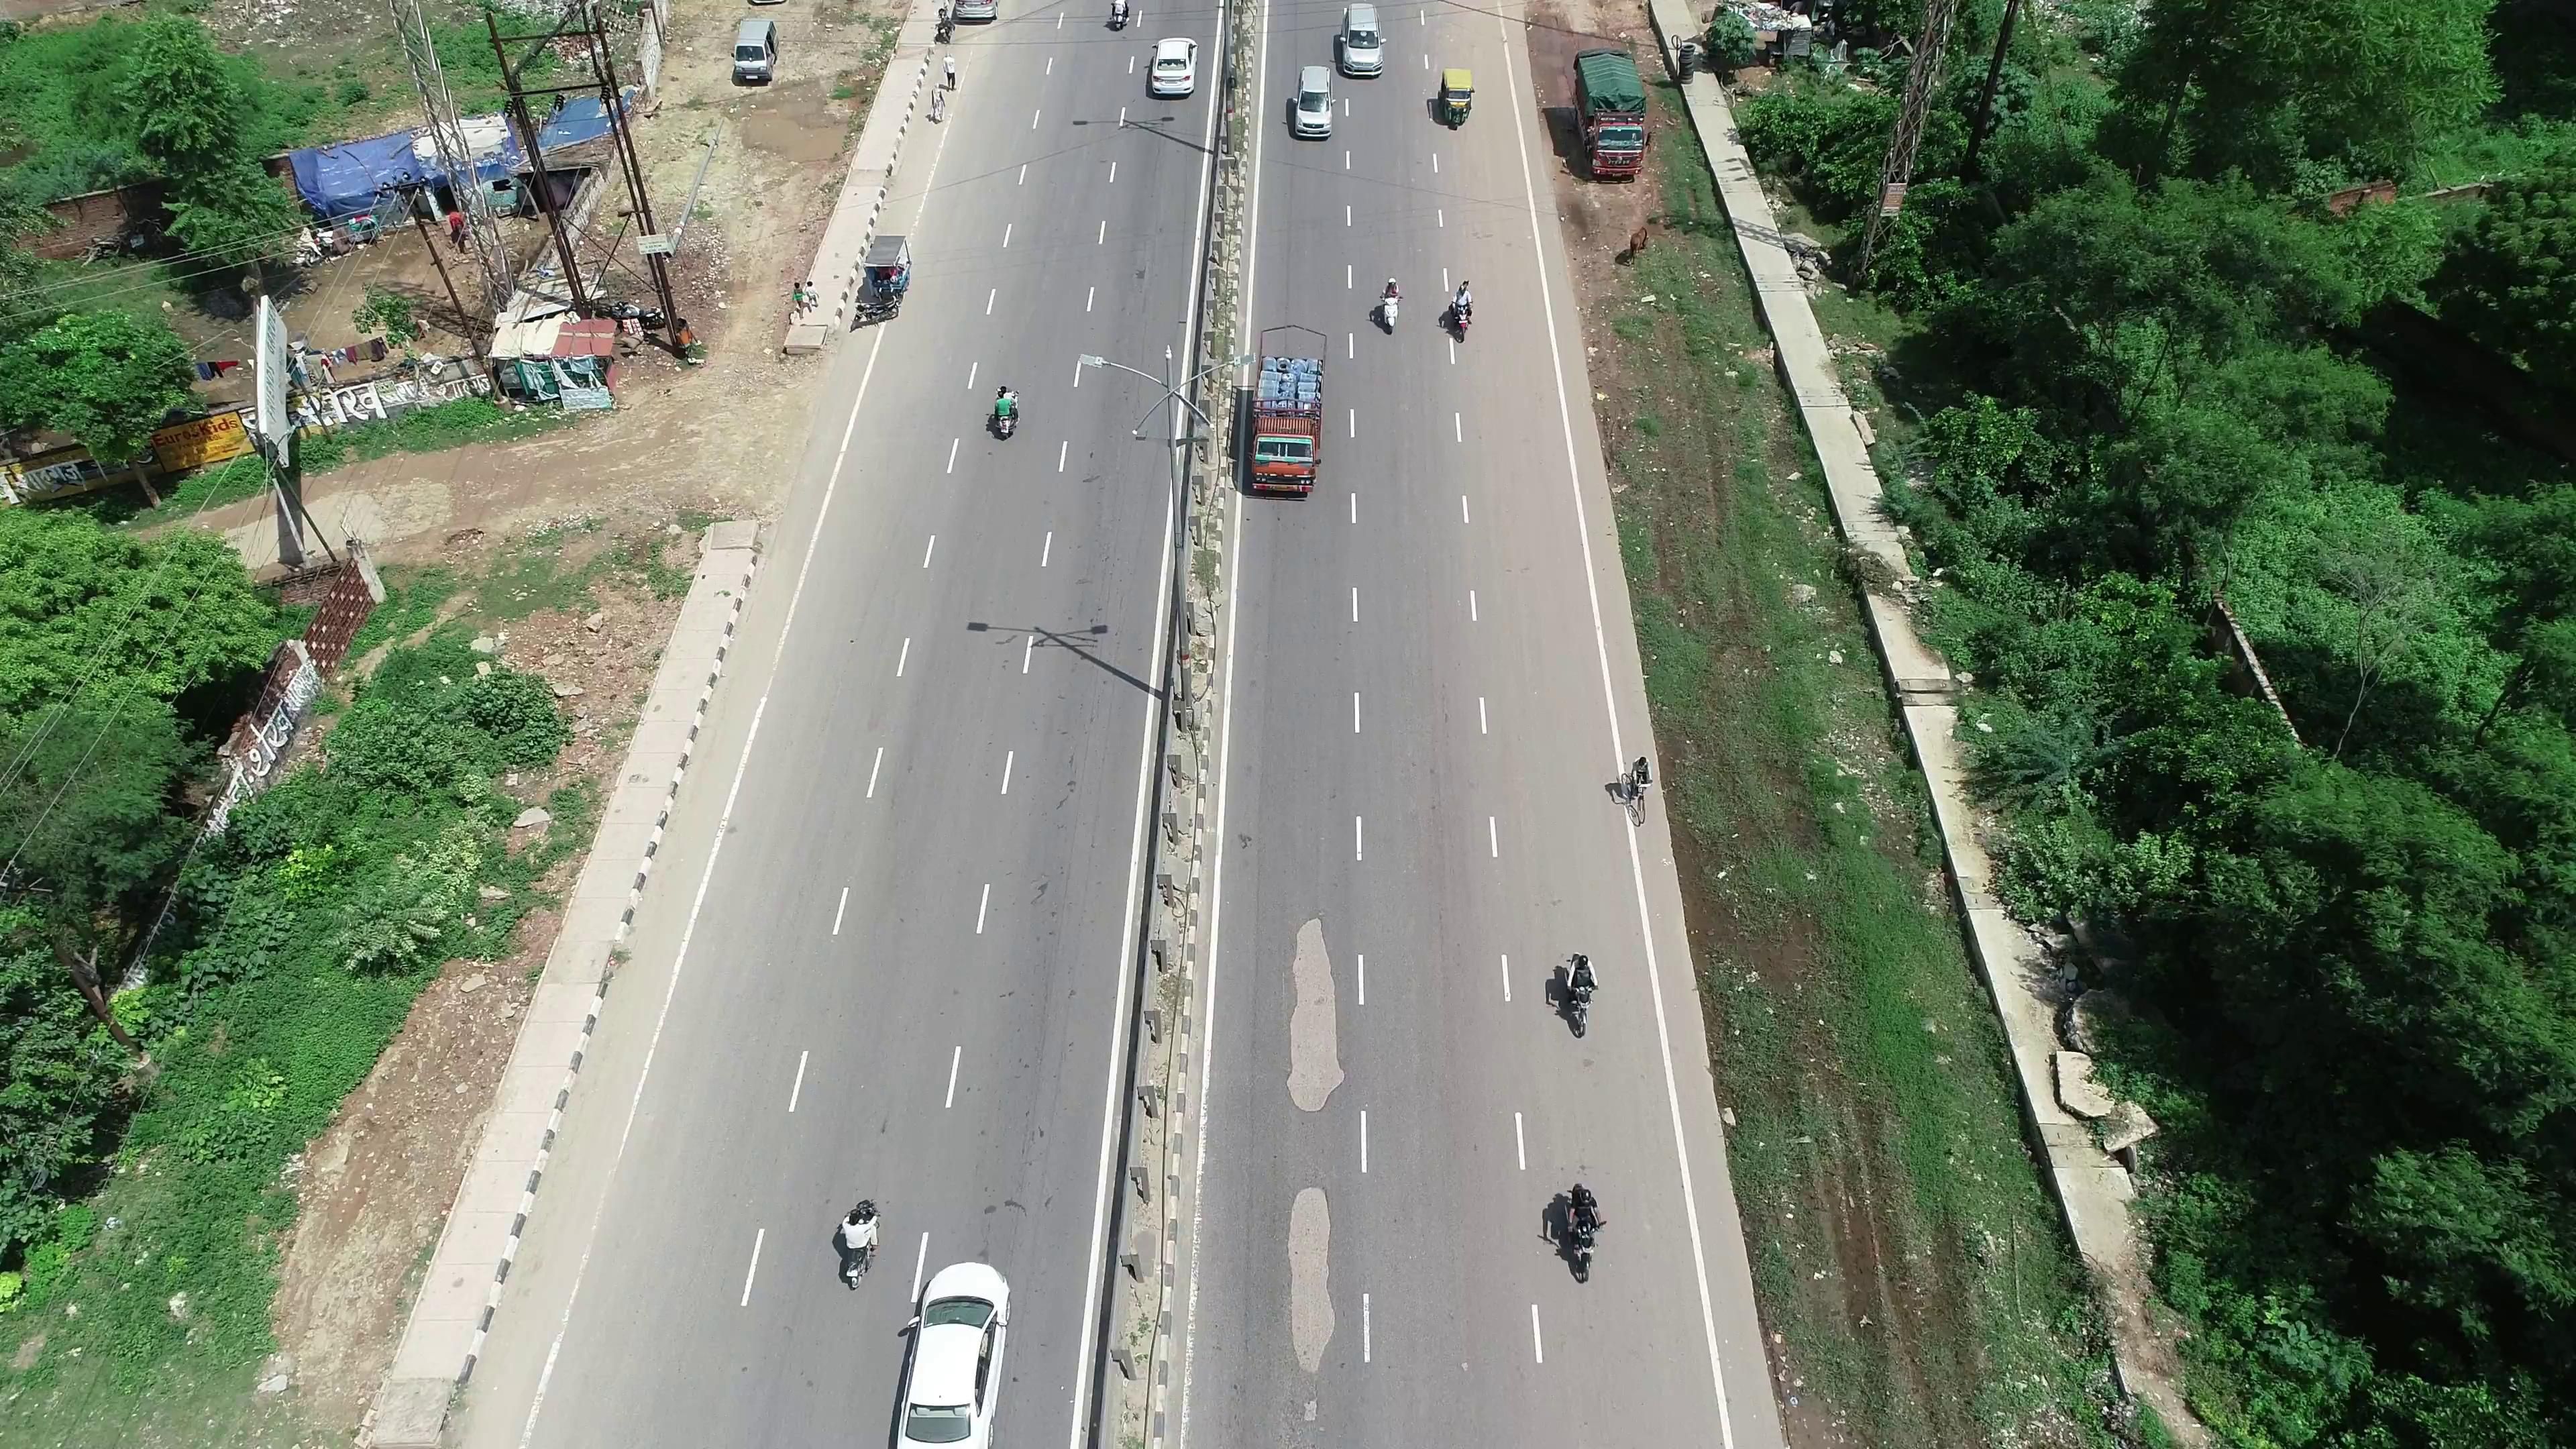Potholes: (1254, 908, 1362, 1143), (1274, 1169, 1362, 1398)
